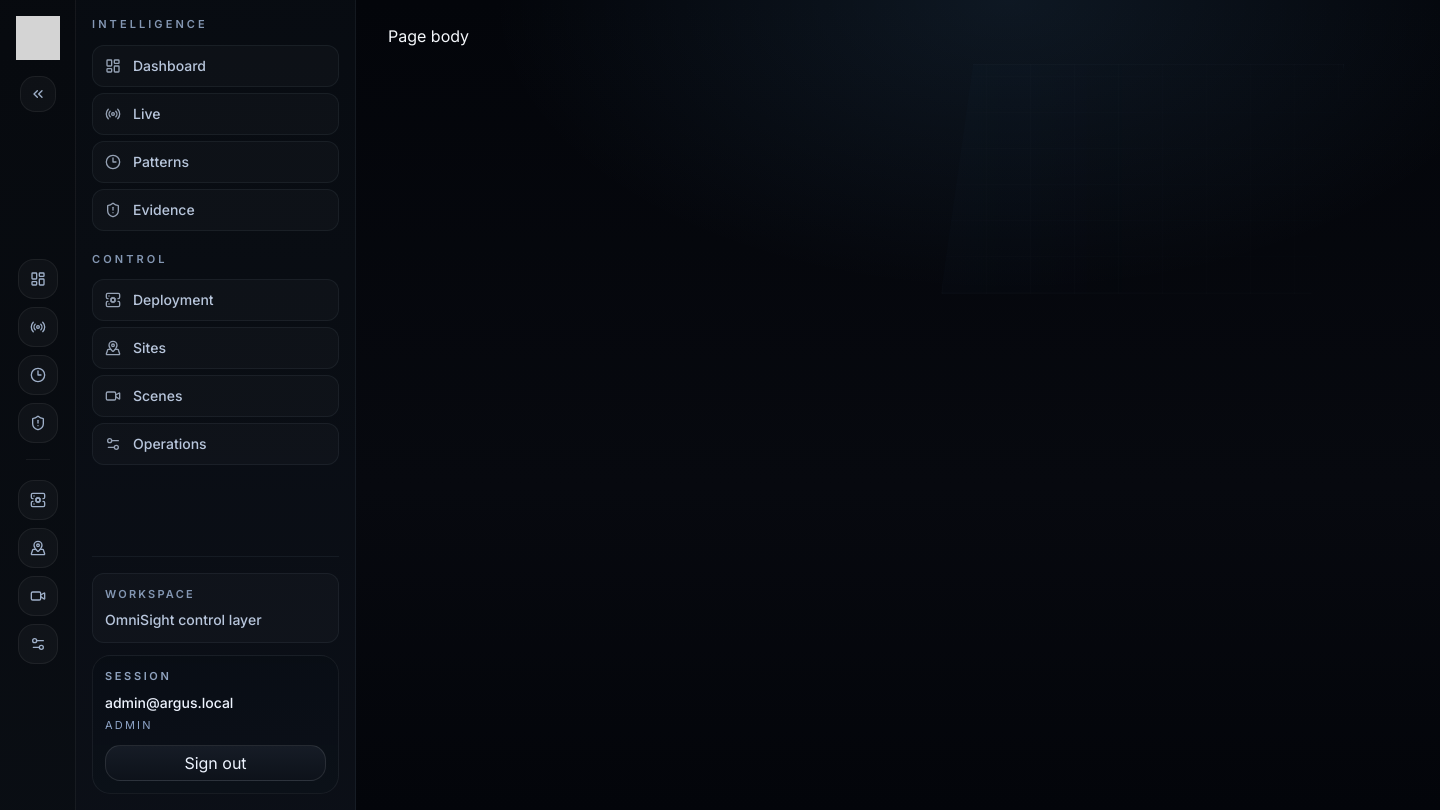
Test: AppShell › lets operators collapse the grouped section rail without losing the icon rail
The image size is (1440, 810).
Expected: the navigation bar named "primary workspace" is shown, [18,128,58,794]
Expected: the navigation bar "Intelligence Dashboard Live Patterns Evidence" is shown, [92,16,339,230]
Click the button named "hide section rail" at (38, 94), box [20,76,56,112]
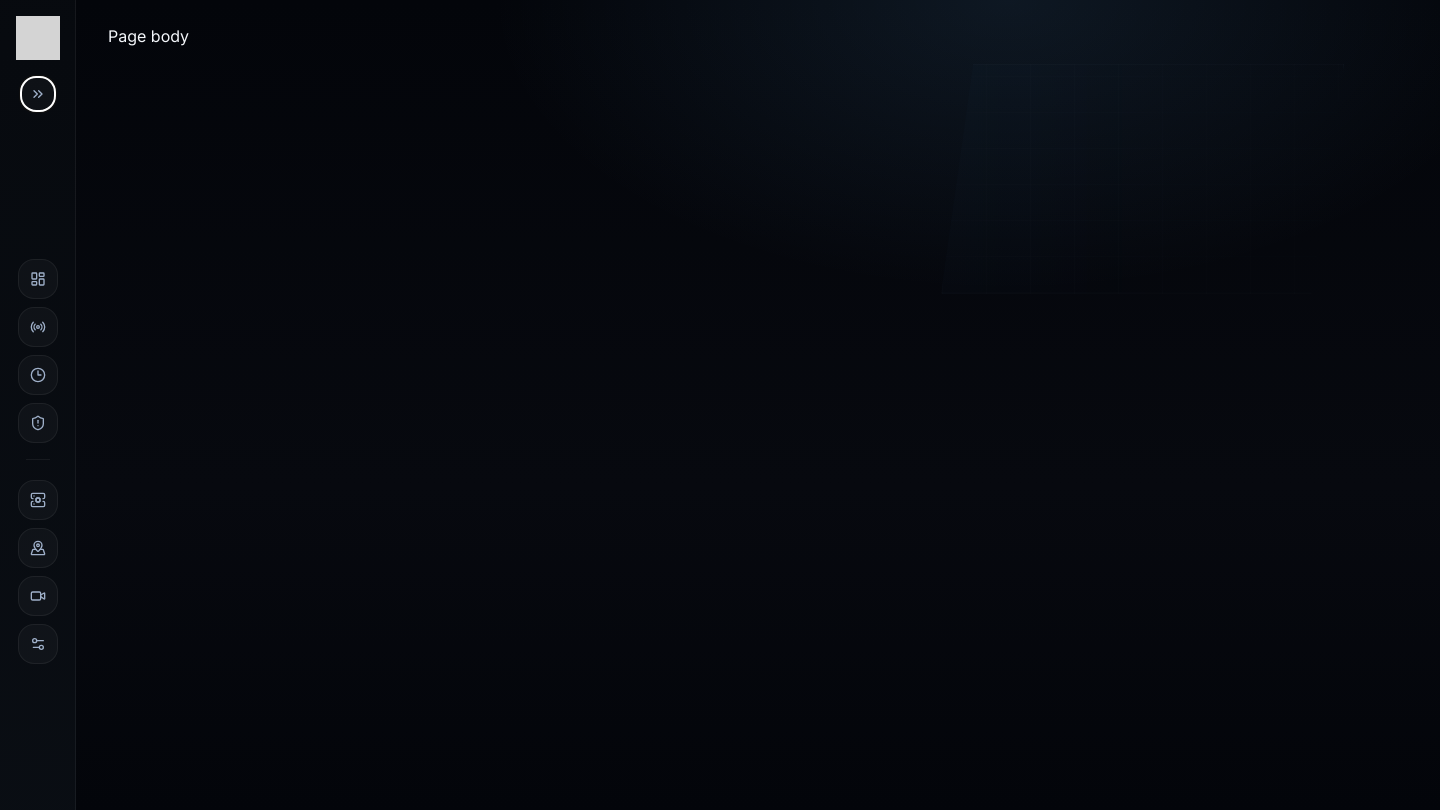
Expected: the navigation bar named "primary workspace" is shown, [18,128,58,794]
Expected: the text "Intelligence" is gone
Expected: the text "Control" is gone
Click the button named "show section rail" at (38, 94), box [20,76,56,112]
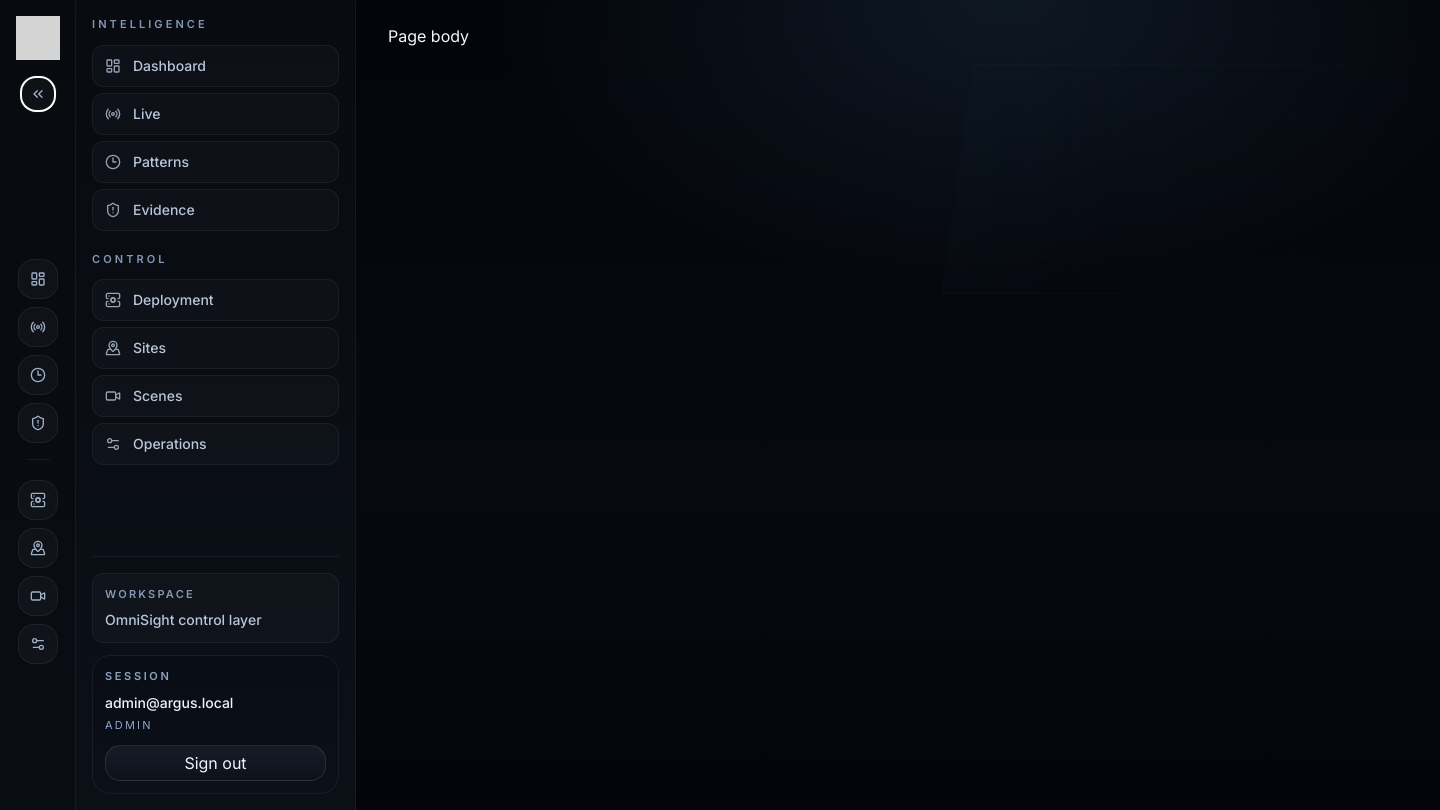
Expected: the navigation bar "Intelligence Dashboard Live Patterns Evidence" is shown, [92,16,339,230]
Expected: the navigation bar "Control Deployment Sites Scenes Operations" is shown, [92,250,339,465]
